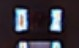COMP: (10, 5, 68, 36)
GAP: (17, 19, 62, 48)
